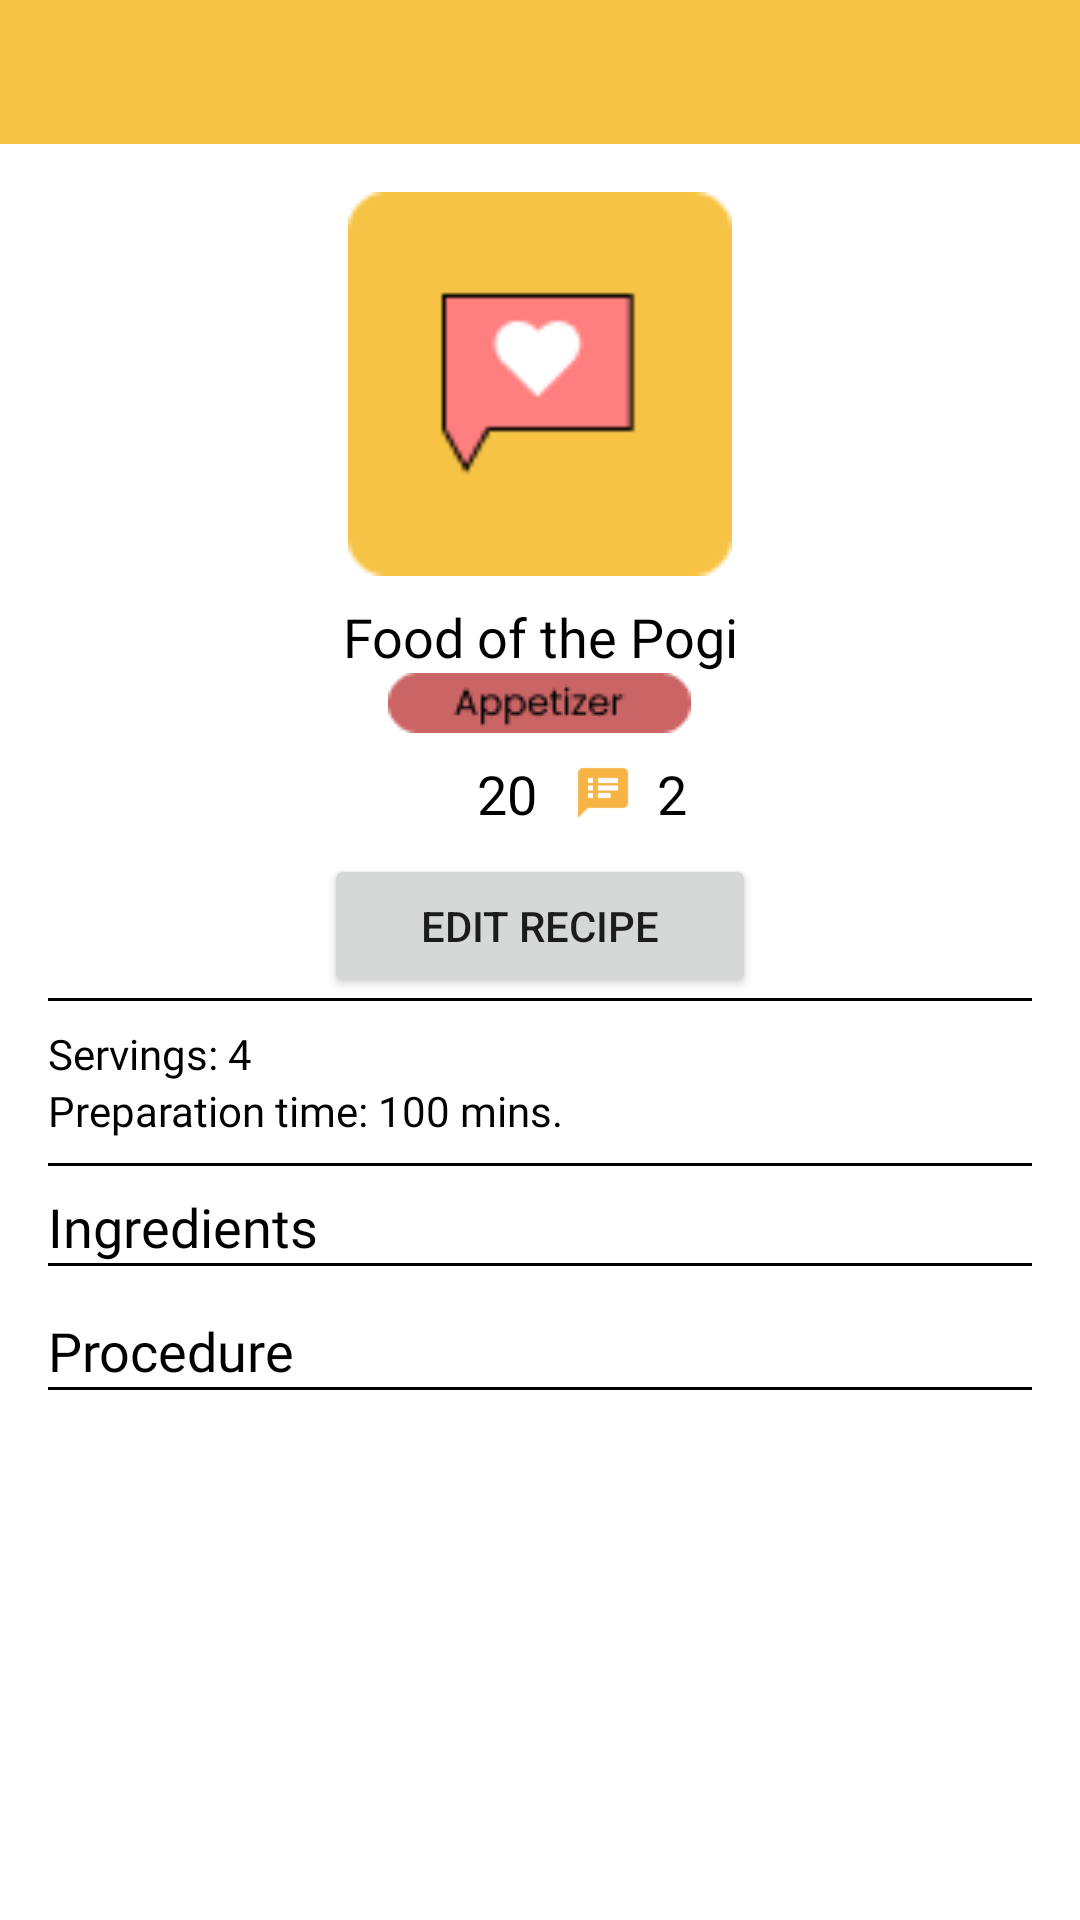

Point at icon controls on the screen. Image size 1080w x 1920h, points as [x,y].
comment: [603,793]
